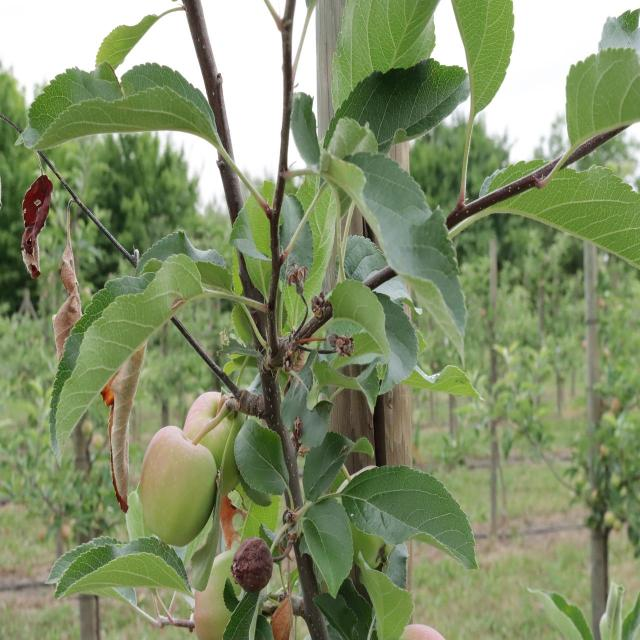-FireBlight-: (21, 149, 143, 367)
